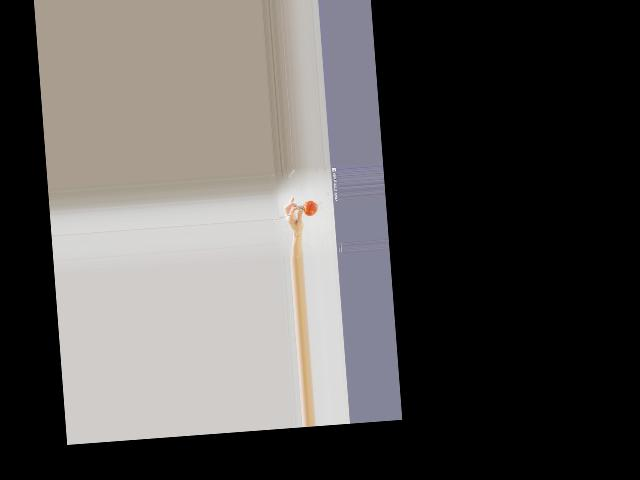tomato: (303, 201, 319, 217)
